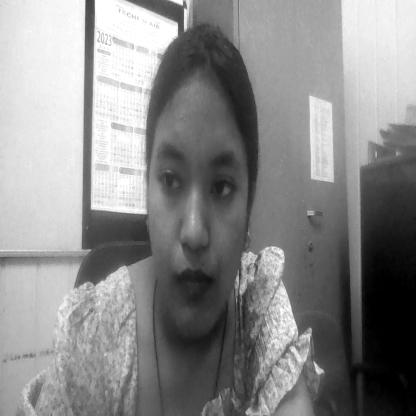Normal: (150, 102, 240, 327)
